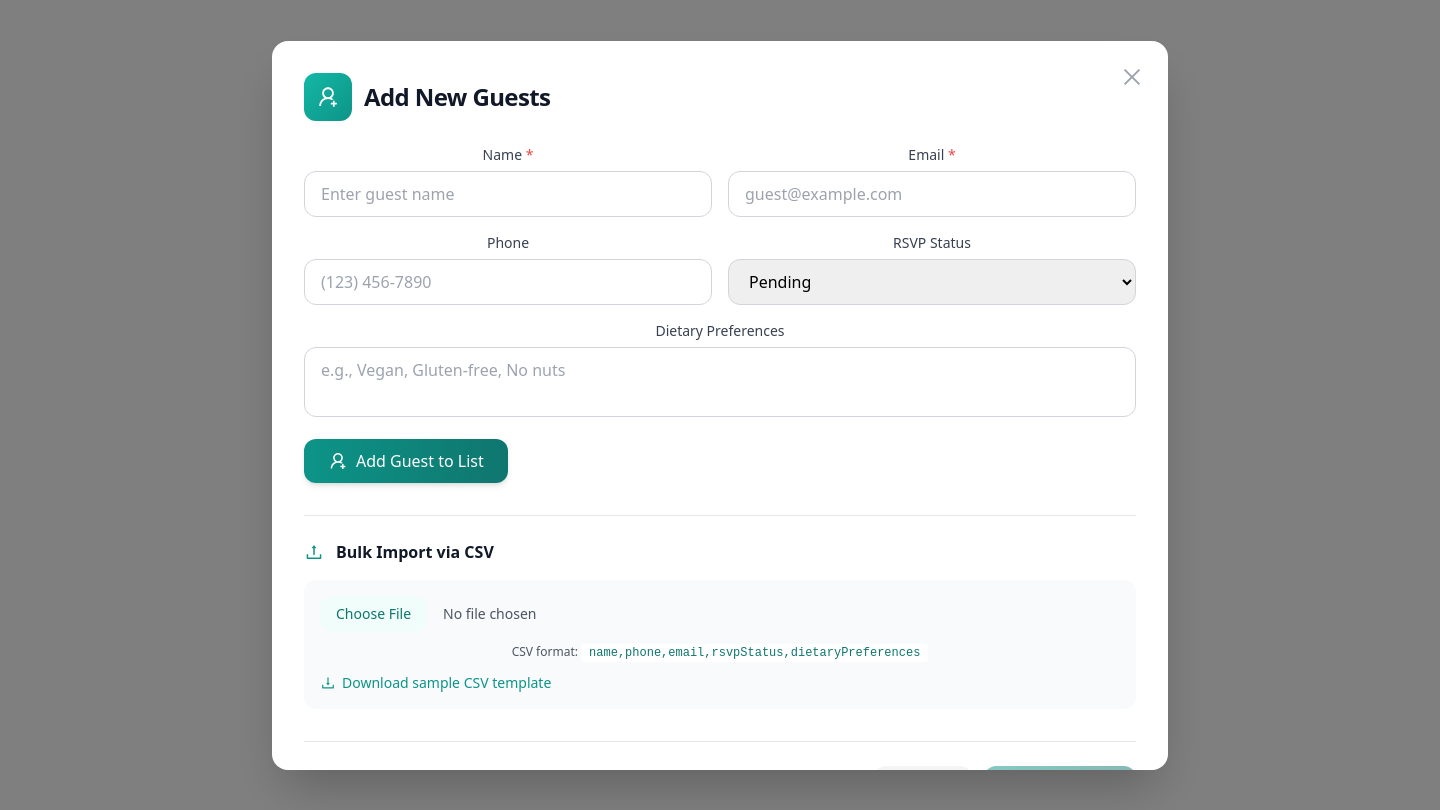
Scenario: AddGuestsModal › adds a guest manually and shows preview
The width and height of the screenshot is (1440, 810).
In the field with placeholder "Enter guest name": (508, 194) [304,170,712,216], type "Alice"
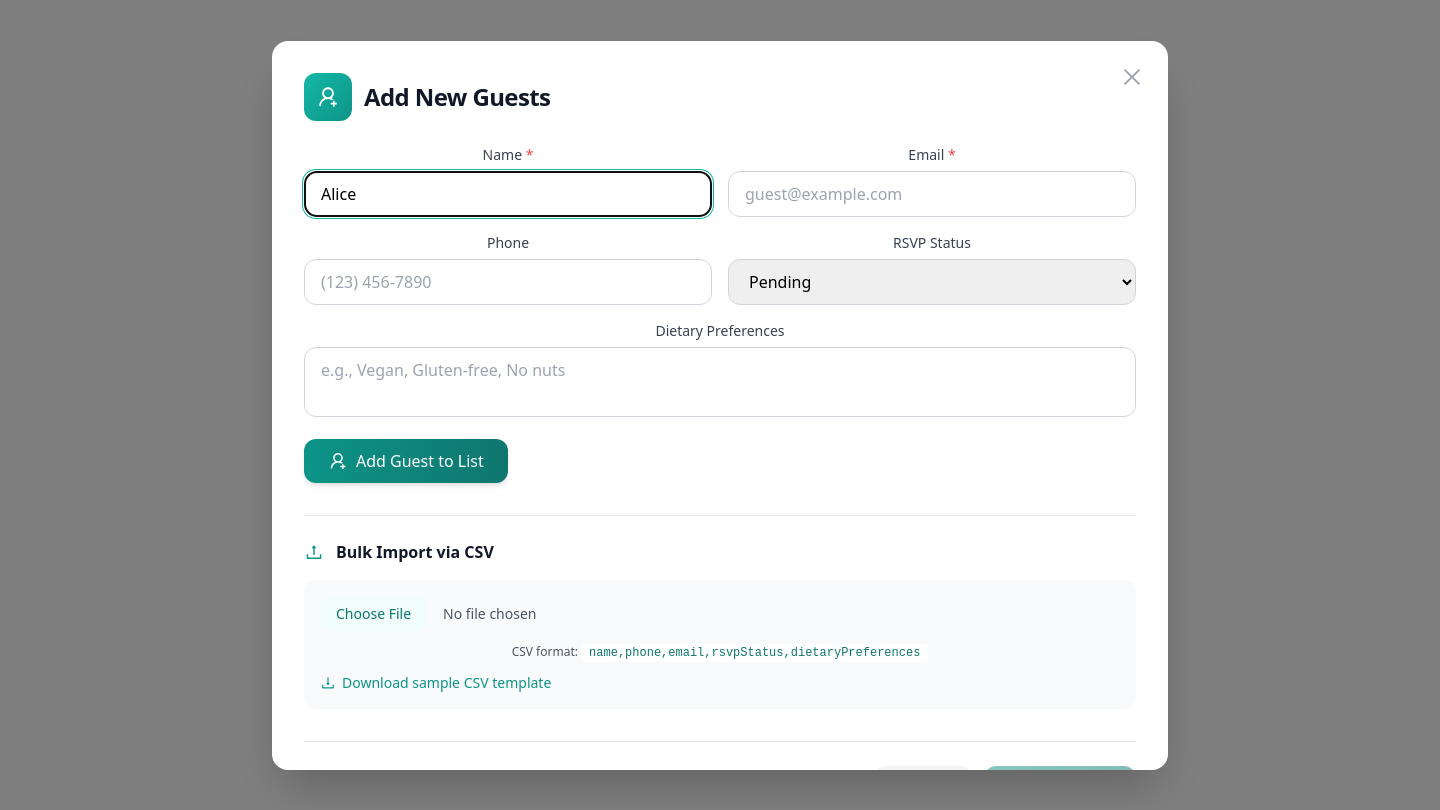
In the field with placeholder "guest@example.com": (932, 194) [728,170,1136,216], type "alice@email.com"
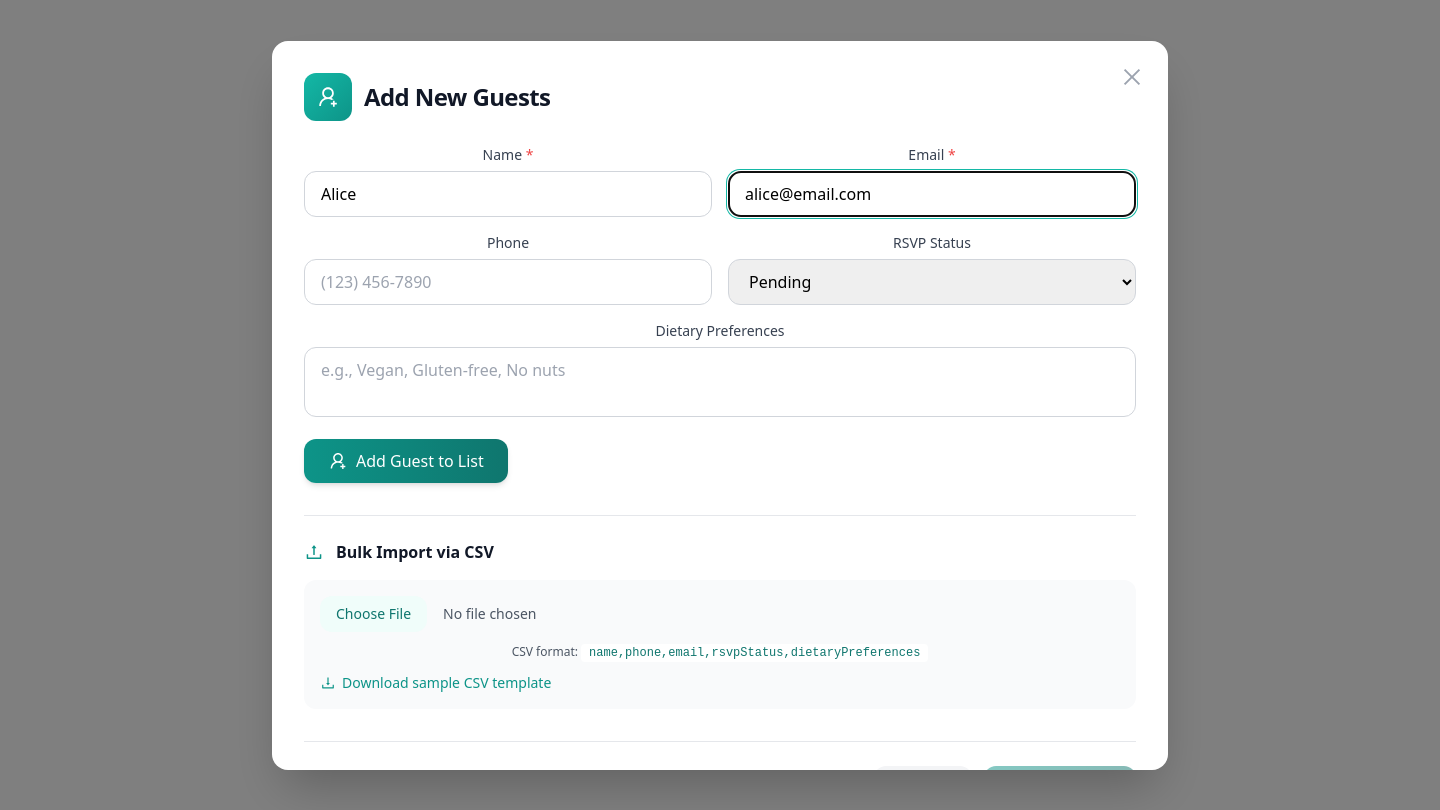
In the field with placeholder "(123) 456-7890": (508, 282) [304,258,712,304], type "123456"
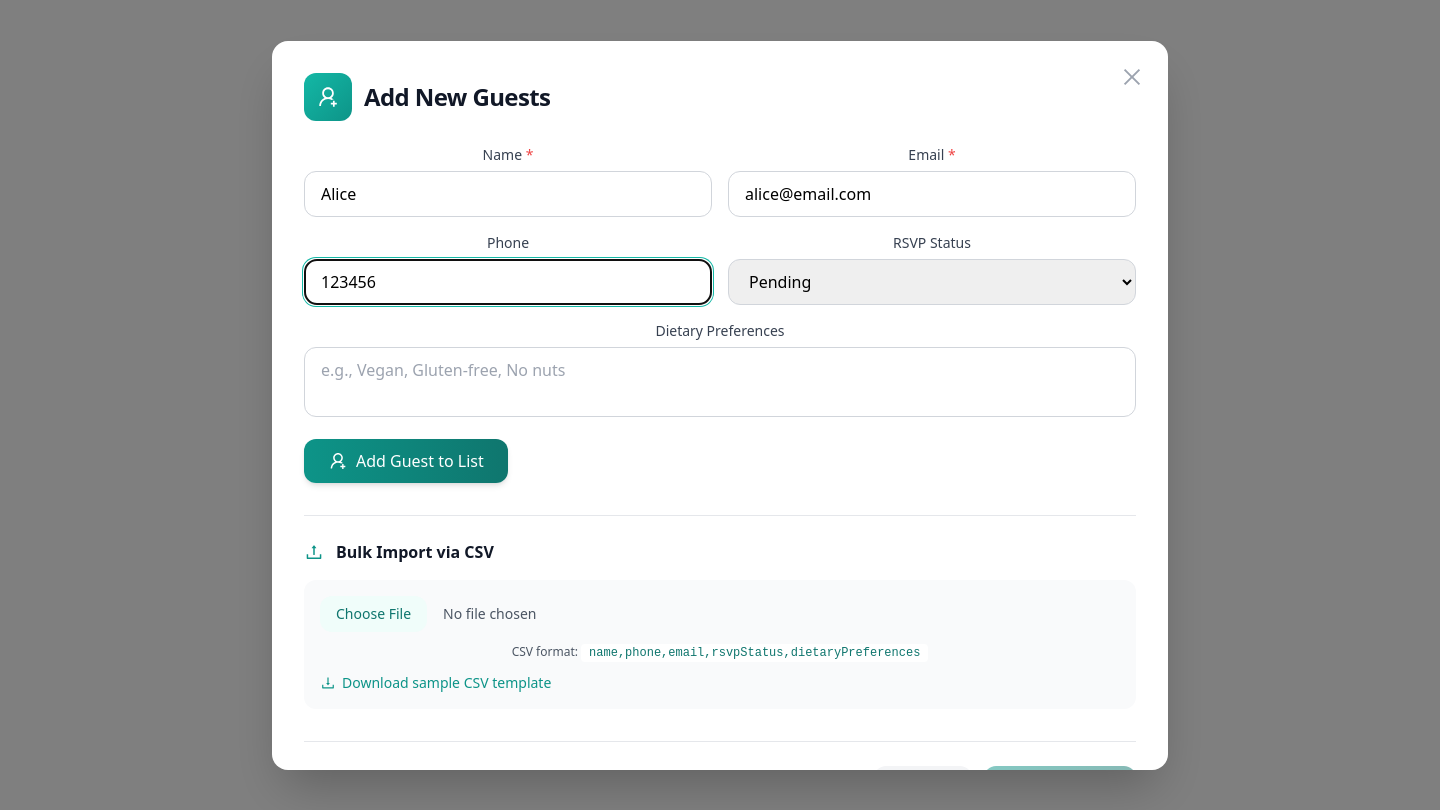
Click the button "Add Guest to List": (406, 460) [304,438,508,482]
(page scrolled)
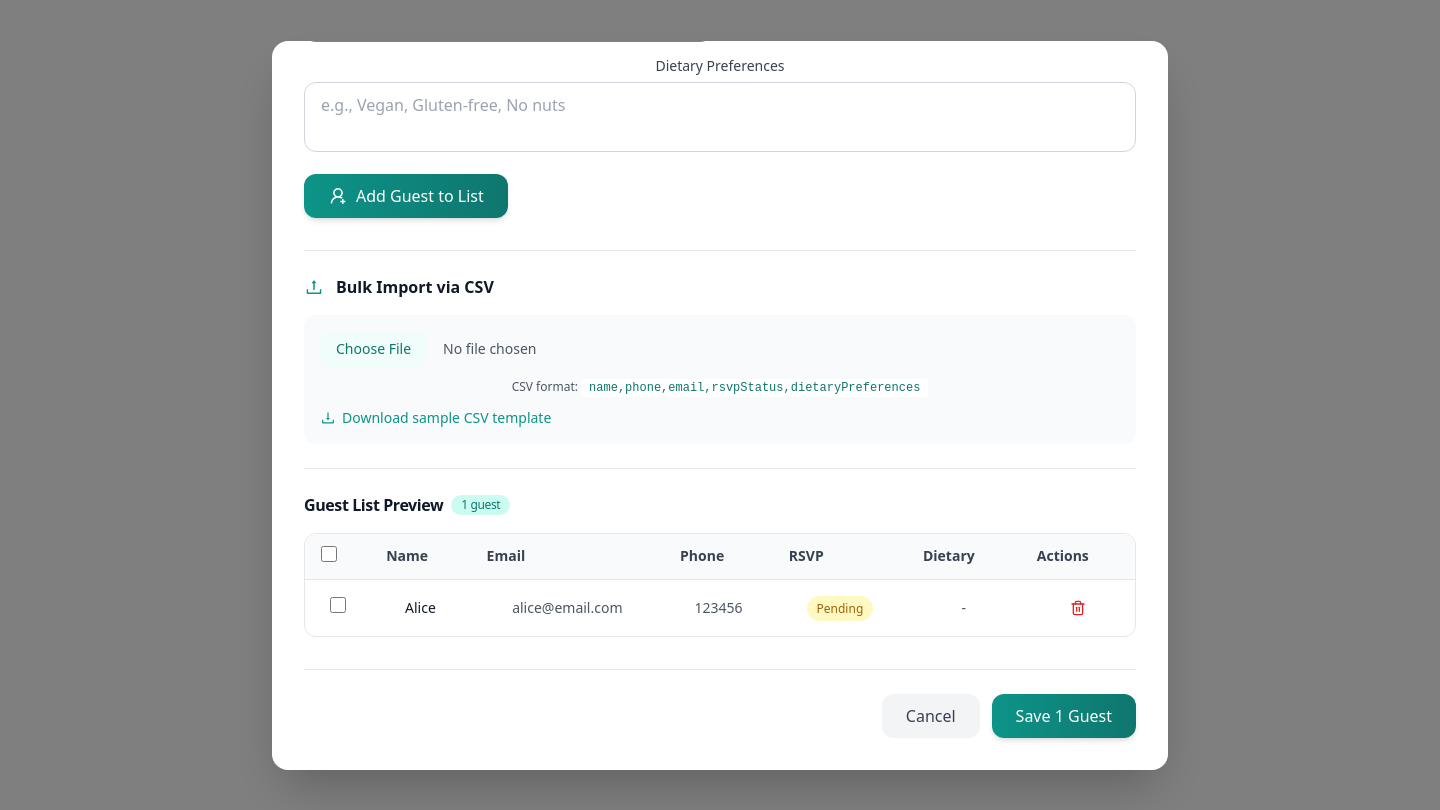
Expected: the text "Alice" is shown, [370,579,471,636]
Expected: the text "alice@email.com" is shown, [471,579,664,636]
Expected: the text "123456" is shown, [664,579,773,636]
